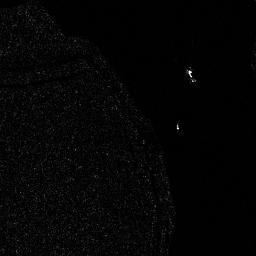ship: (187, 68, 197, 84)
